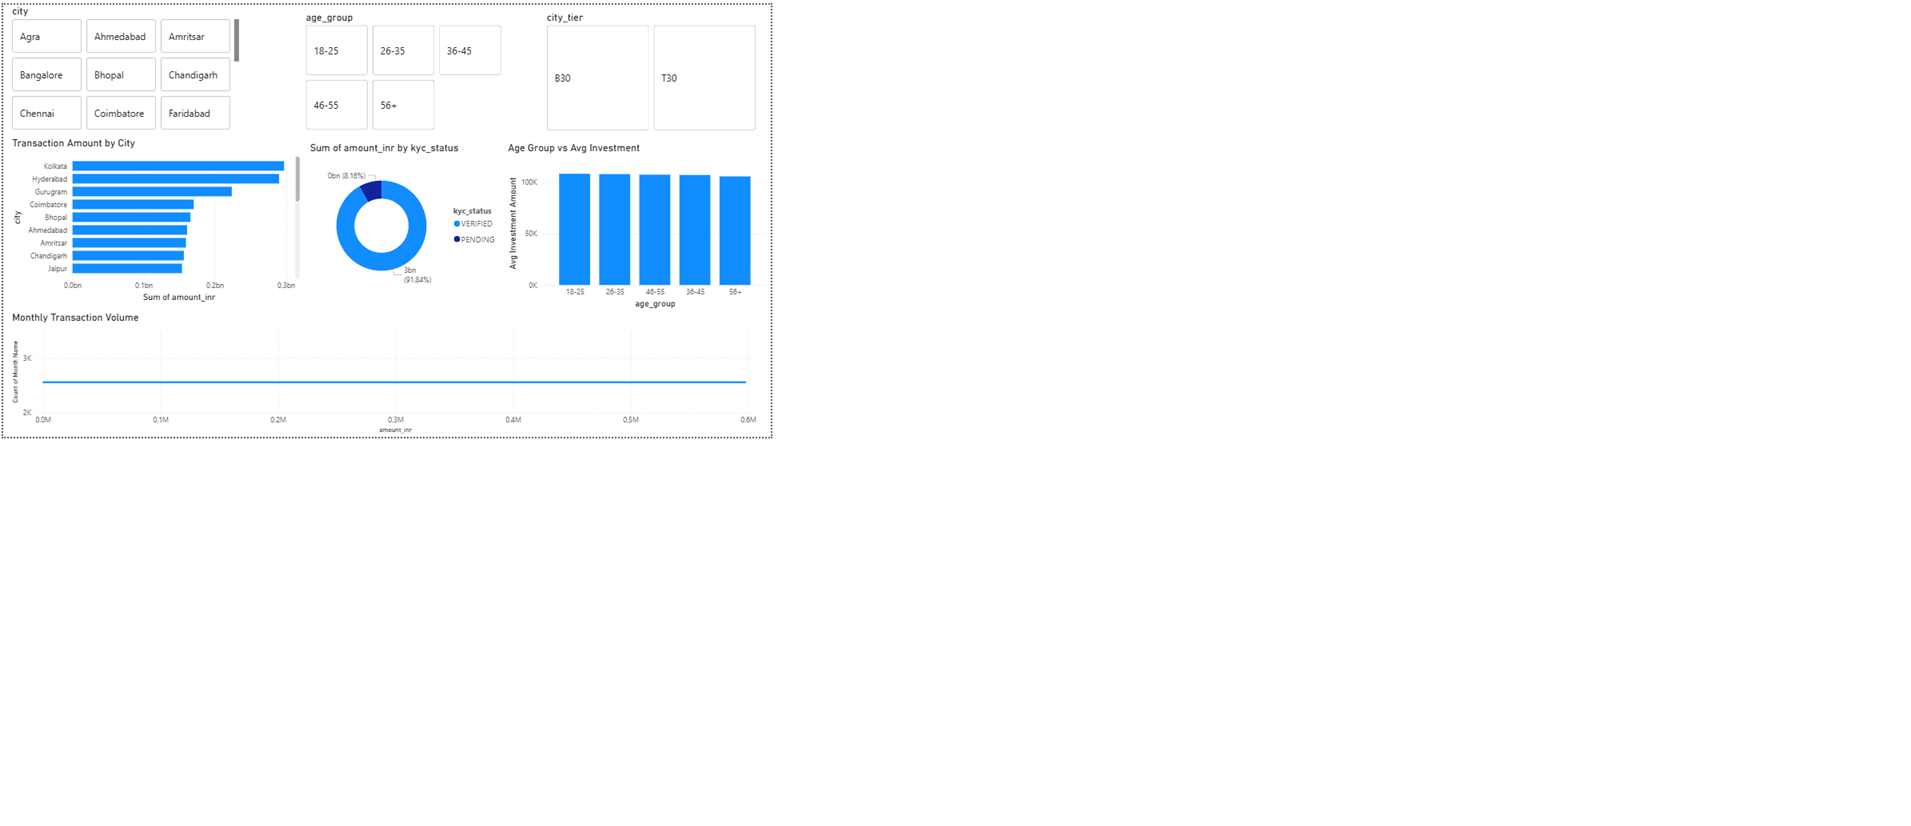

This screenshot's page, from the dashboard's own definition file:
{"tool":"powerbi","page":{"name":" Investor Analytics","canvas":[1280,720],"ordinal":2},"visuals":[{"type":"advancedSlicerVisual","fields":{"Values":["clean_investor_transactions.city"]},"box":[9.6,0,388.3,214.1],"z":0},{"type":"advancedSlicerVisual","fields":{"Values":["clean_investor_transactions.age_group"]},"box":[499.5,9.6,337.6,204.5],"z":1000},{"type":"advancedSlicerVisual","fields":{"Values":["clean_investor_transactions.city_tier"]},"box":[901.5,9.6,359.5,204.5],"z":2000},{"type":"clusteredBarChart","title":" Transaction Amount by City","fields":{"Category":["clean_investor_transactions.city"],"Y":["Sum(clean_investor_transactions.amount_inr)"]},"box":[9.6,219.6,489.9,279.9],"z":3000},{"type":"donutChart","fields":{"Category":["clean_investor_transactions.kyc_status"],"Y":["Sum(clean_investor_transactions.amount_inr)"]},"box":[506.3,229.2,330.7,260.7],"z":4000},{"type":"columnChart","title":"Age Group vs Avg Investment","fields":{"Y":["clean_investor_transactions.Avg Investment Amount"],"Category":["clean_investor_transactions.age_group"]},"box":[837.1,229.2,443.2,282.7],"z":5000},{"type":"lineChart","title":"Monthly Transaction Volume","fields":{"Category":["clean_investor_transactions.amount_inr"],"Y":["CountNonNull(DateTable.Month Name)"]},"box":[9.6,510.5,1251.5,209.9],"z":6000}]}

Visuals, with their boxes on the page's 1280x720 design canvas (x1, y1, x2, y2). These are canvas units, not pixel positions in the 1911x826 screenshot, which may show the page scaled, cropped or inside an application window:
advancedSlicerVisual - clean_investor_transactions.city: BBox(10, 0, 398, 214)
advancedSlicerVisual - clean_investor_transactions.age_group: BBox(500, 10, 837, 214)
advancedSlicerVisual - clean_investor_transactions.city_tier: BBox(902, 10, 1261, 214)
" Transaction Amount by City" clusteredBarChart: BBox(10, 220, 500, 500)
donutChart - clean_investor_transactions.kyc_status x Sum(clean_investor_transactions.amount_inr): BBox(506, 229, 837, 490)
"Age Group vs Avg Investment" columnChart: BBox(837, 229, 1280, 512)
"Monthly Transaction Volume" lineChart: BBox(10, 510, 1261, 720)
